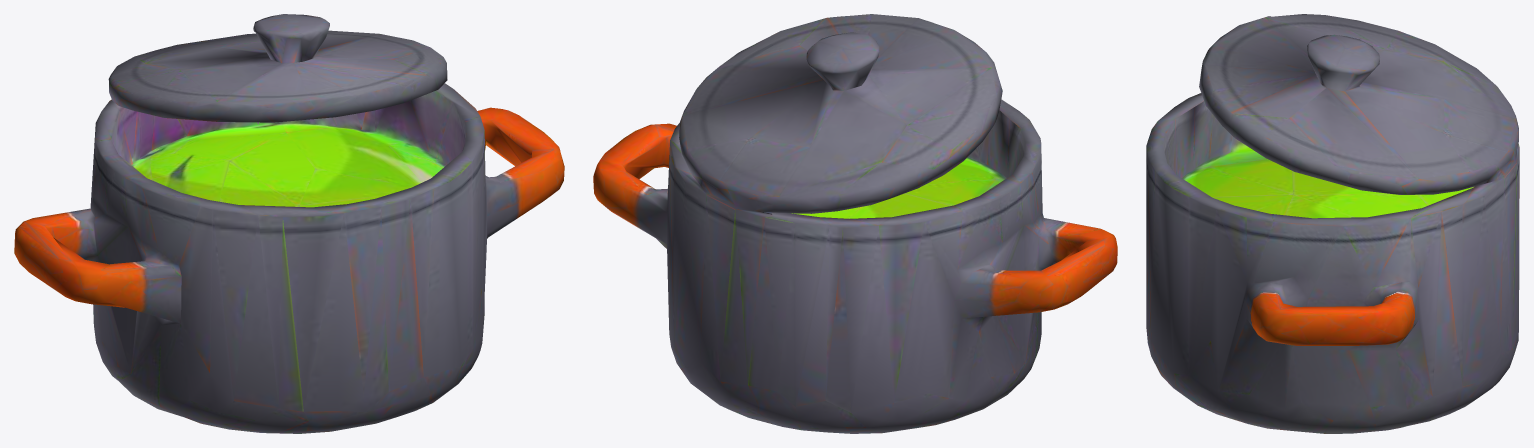
The model's file is pot.glb.
3 views of the same model, side by side, from view 1: azimuth 30°, elevation 25°; view 2: azimuth 150°, elevation 25°; view 3: azimuth 270°, elevation 25° (orthographic). The views are drawn at different scales.
Bounding box in the file's own units: 1.91 × 1.24 × 1.28.
Materials: 1 (1 with a texture image).
